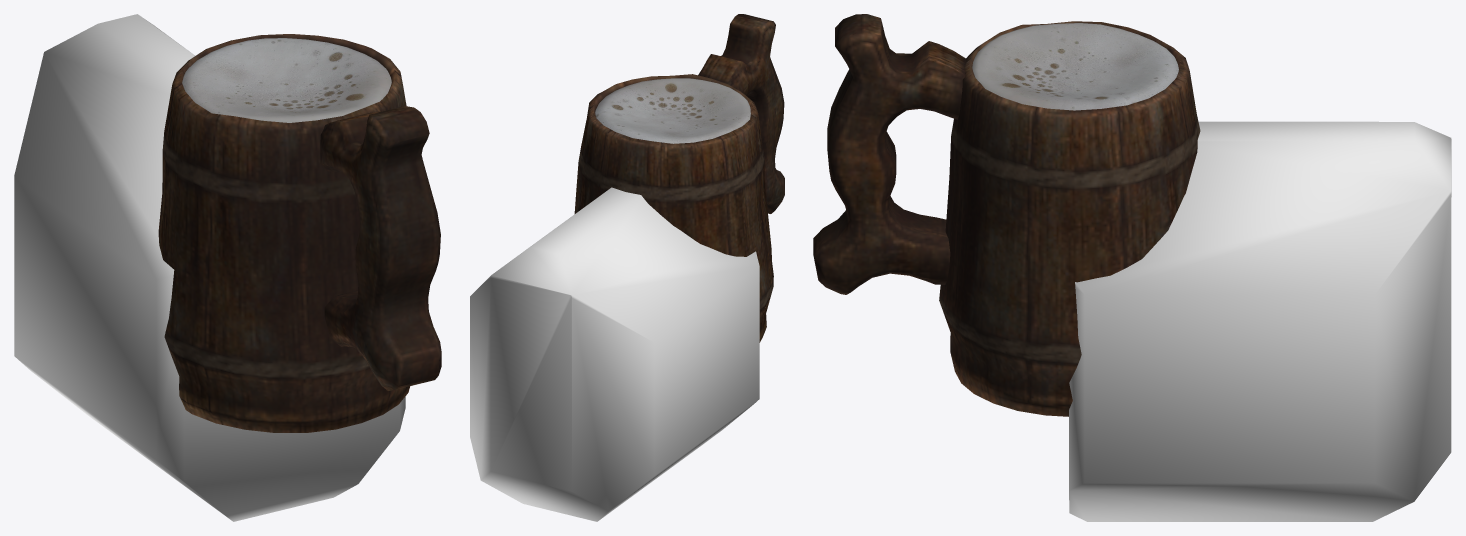
The model's file is SM_BeerMug_A_Food.fbx.
3 renders of one model, left to right at view 1: azimuth 30°, elevation 25°; view 2: azimuth 150°, elevation 25°; view 3: azimuth 270°, elevation 25°, orthographic. The views are drawn at different scales.
Parts seen in each view (by area): view 1: SM_BeerMug_A_Food, SM_BeerMug_A_Food_ConvexHulls; view 2: SM_BeerMug_A_Food_ConvexHulls, SM_BeerMug_A_Food; view 3: SM_BeerMug_A_Food_ConvexHulls, SM_BeerMug_A_Food.
Part boxes in pixels (bbox=[...]): SM_BeerMug_A_Food: bbox=[158, 34, 441, 432]; SM_BeerMug_A_Food_ConvexHulls: bbox=[14, 14, 405, 521]; SM_BeerMug_A_Food_ConvexHulls: bbox=[470, 187, 759, 521]; SM_BeerMug_A_Food: bbox=[574, 14, 784, 342]; SM_BeerMug_A_Food_ConvexHulls: bbox=[1069, 121, 1451, 521]; SM_BeerMug_A_Food: bbox=[813, 14, 1200, 416].
Bounding box in the file's own units: 0.1751 × 0.3244 × 0.3961.
